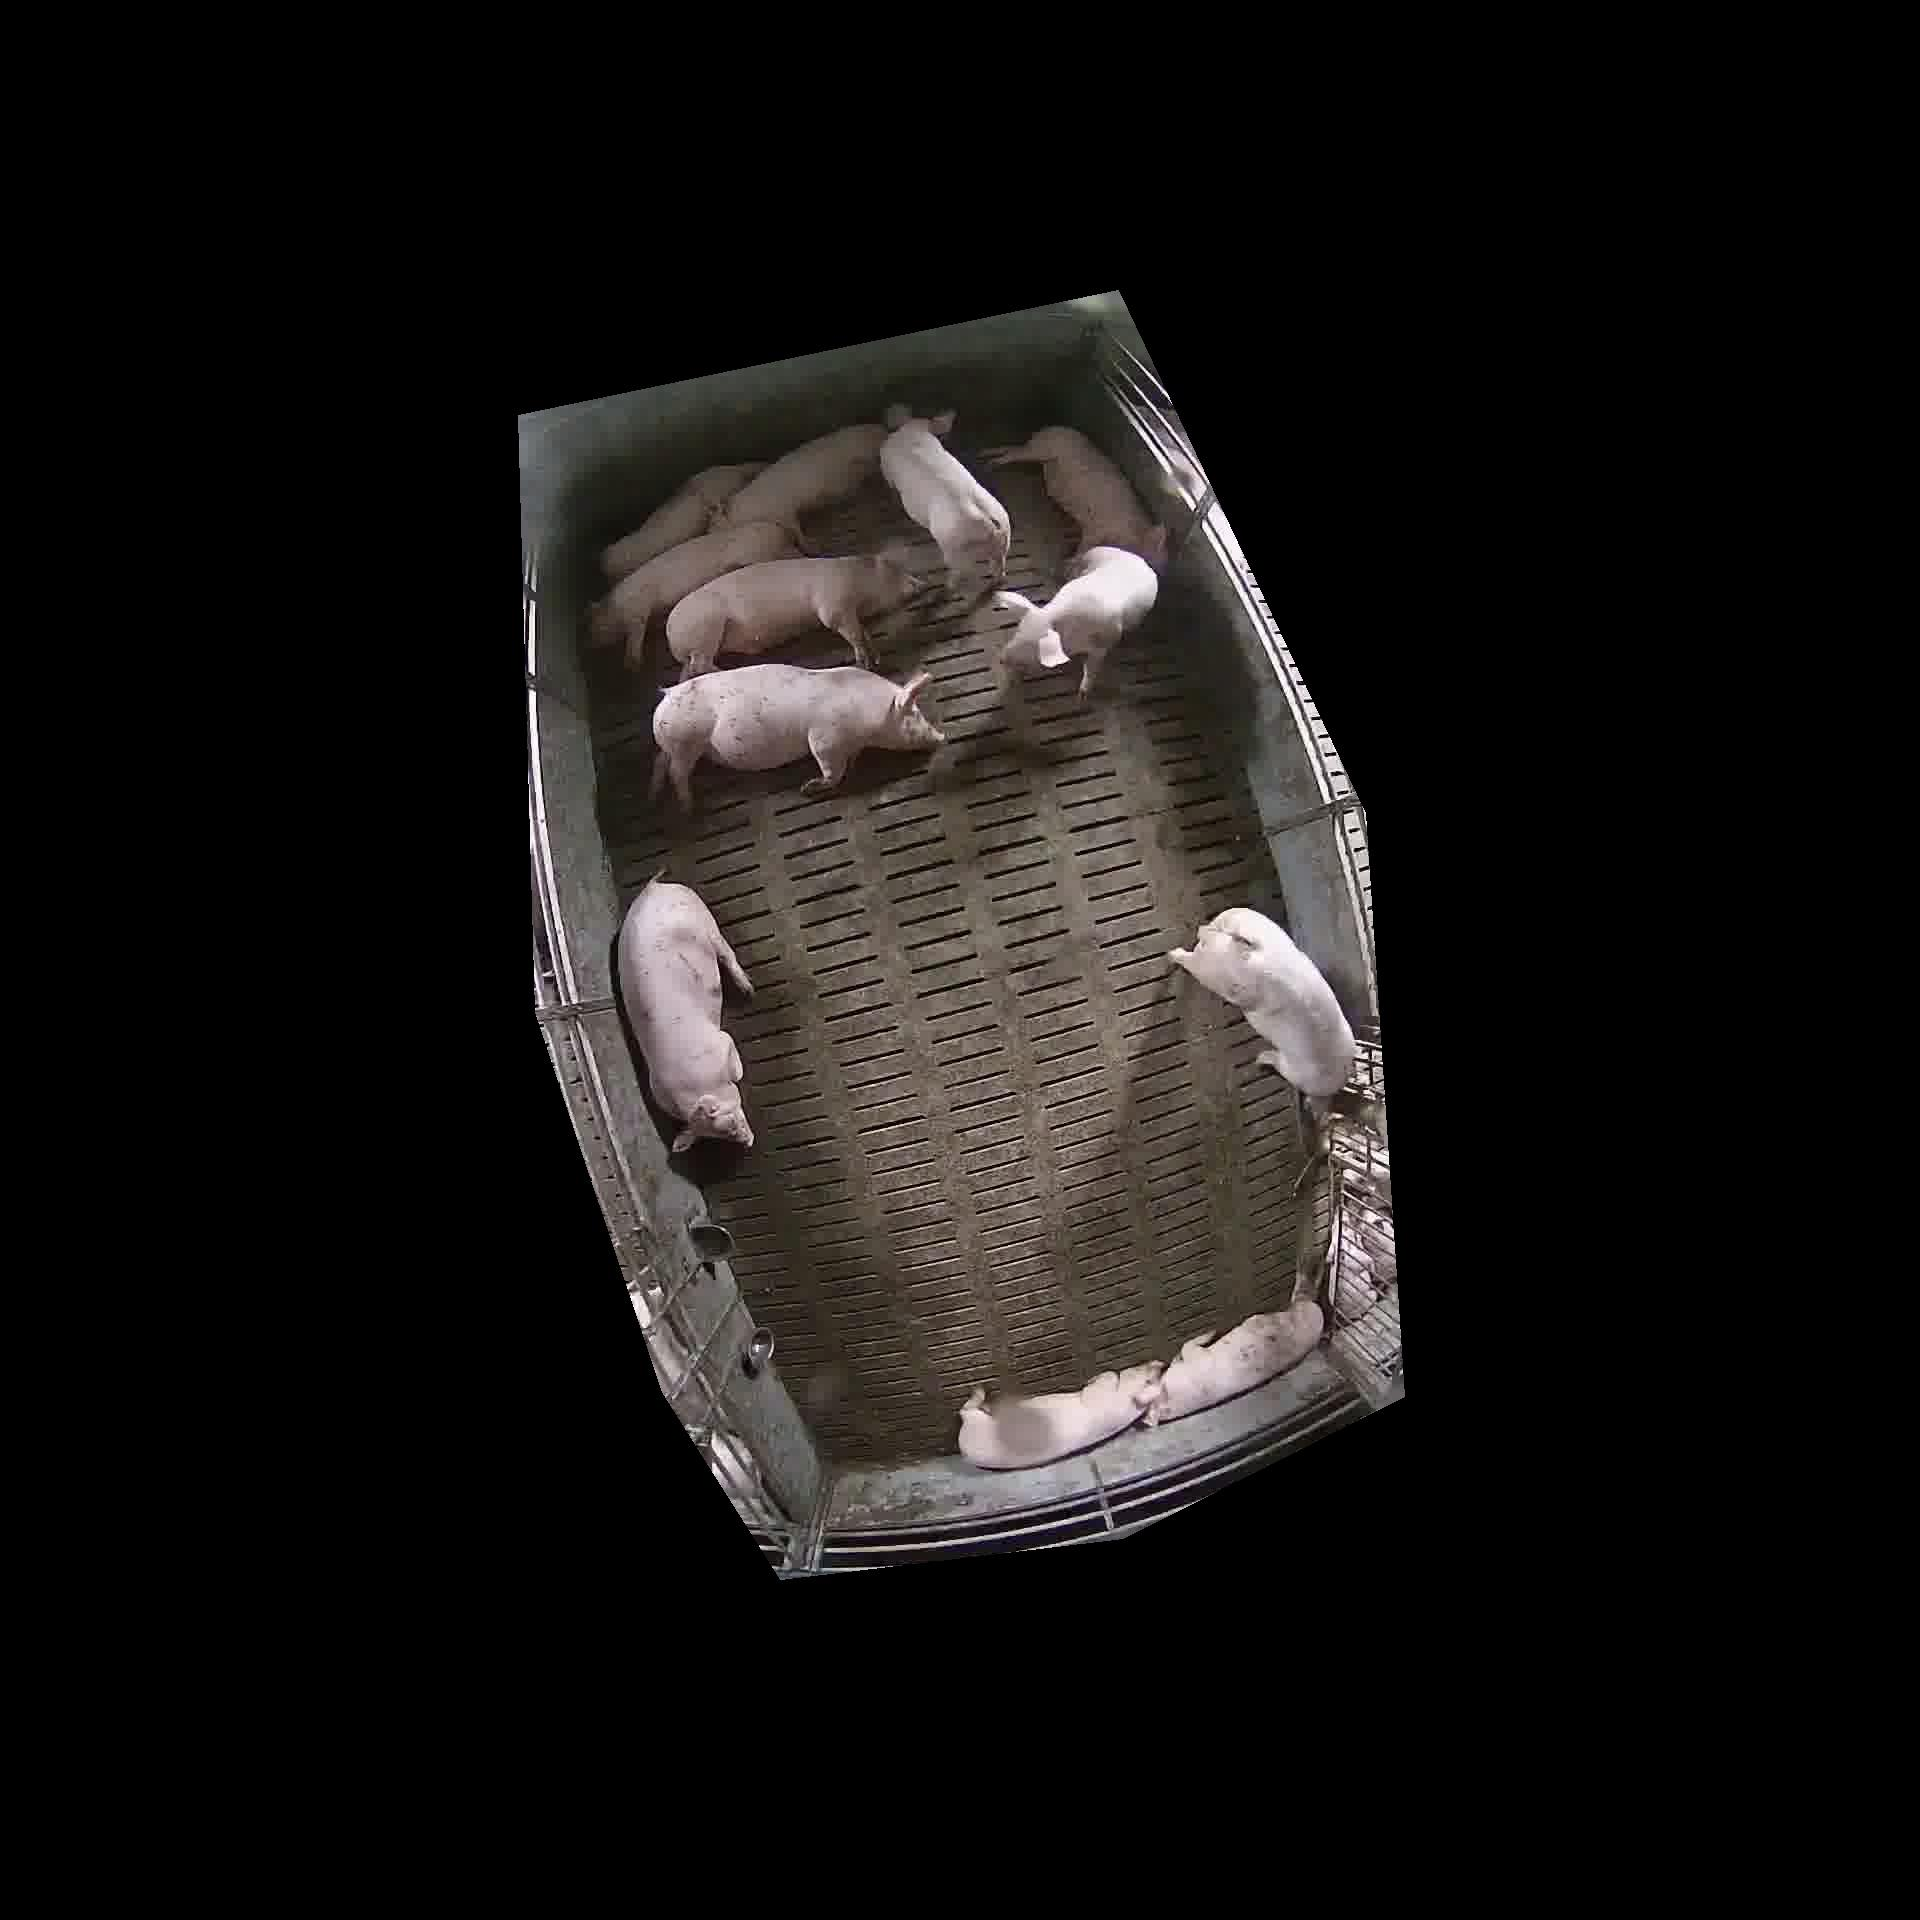pig: (651, 665, 942, 811), (617, 879, 753, 1152), (1169, 907, 1356, 1095), (666, 554, 921, 679), (587, 520, 798, 668), (981, 425, 1166, 566), (879, 406, 1009, 600), (993, 547, 1157, 696), (1146, 1299, 1322, 1424), (958, 1361, 1162, 1468), (600, 462, 761, 580)
